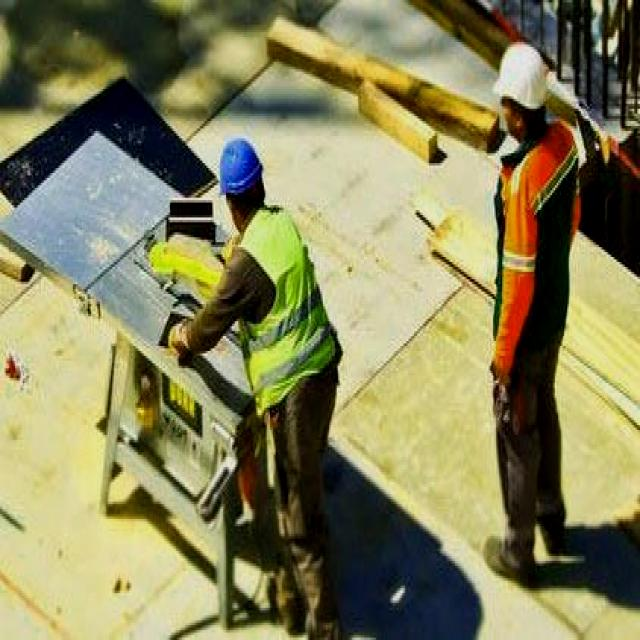hand_glove: (159, 316, 191, 351), (484, 356, 516, 385)
head_helmet: (498, 40, 560, 109), (220, 138, 265, 196)
person: (208, 133, 344, 623), (486, 42, 574, 586)
shoes: (481, 525, 537, 587)
vest: (234, 220, 346, 393), (497, 153, 575, 356)
